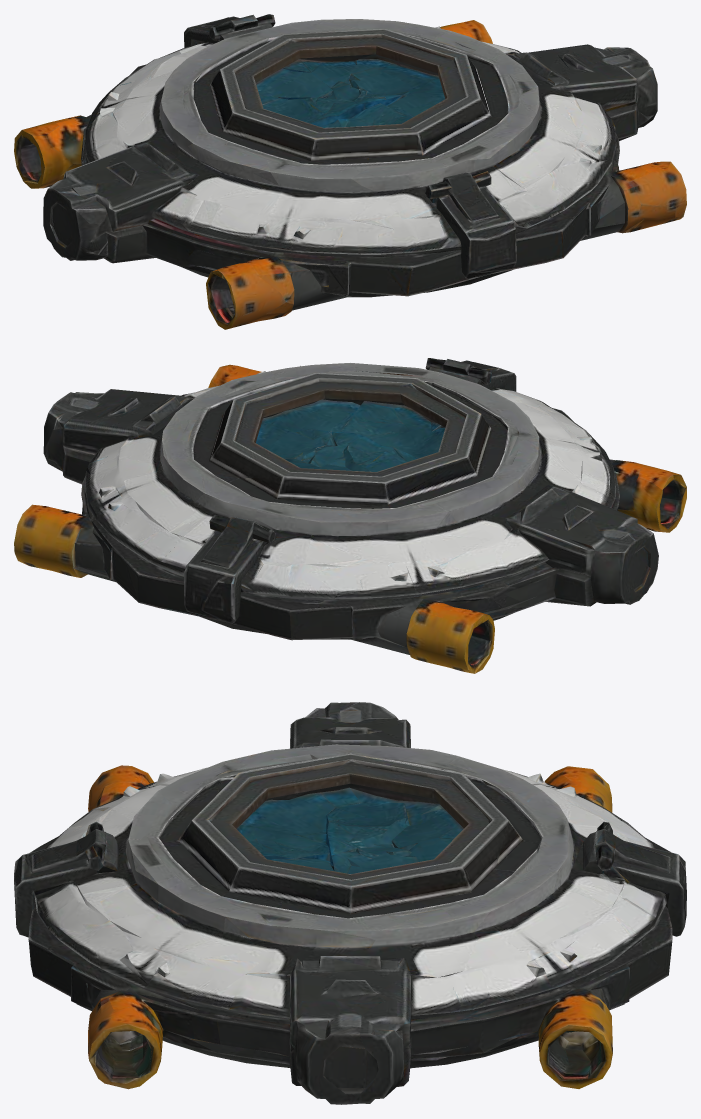
The model's file is enemy-cinder-fighter.glb.
3 views of the same model, one above another, from view 1: azimuth 30°, elevation 25°; view 2: azimuth 150°, elevation 25°; view 3: azimuth 270°, elevation 25° (orthographic). The views are drawn at different scales.
Size of the model in its own units: 1.9 by 0.5231 by 1.63.
Materials: 1 (1 with a texture image).
